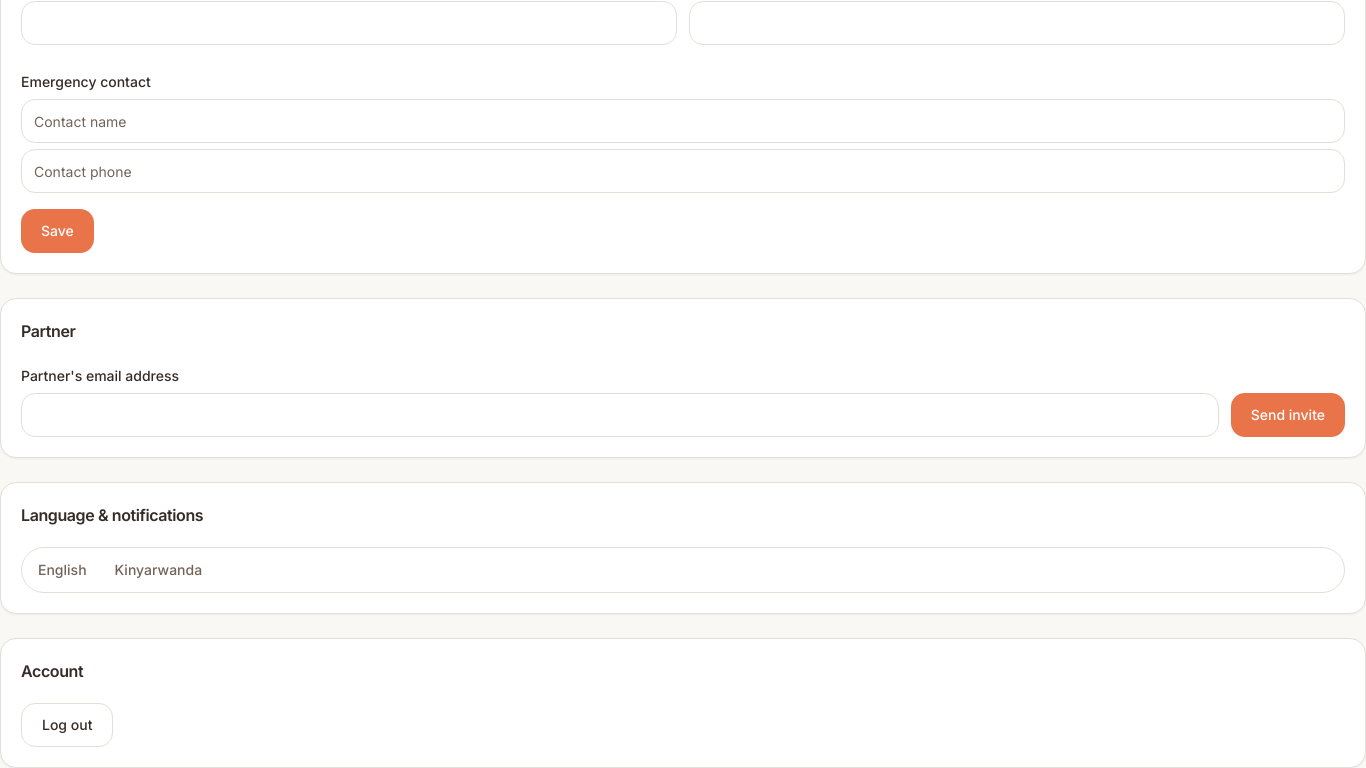
Scenario: ProfilePage › submits an invite and shows the pending state
The width and height of the screenshot is (1366, 768).
(page scrolled)
Type "partner@example.com" into the field labelled "Partner's email address" at (620, 415), box [21,393,1219,437]
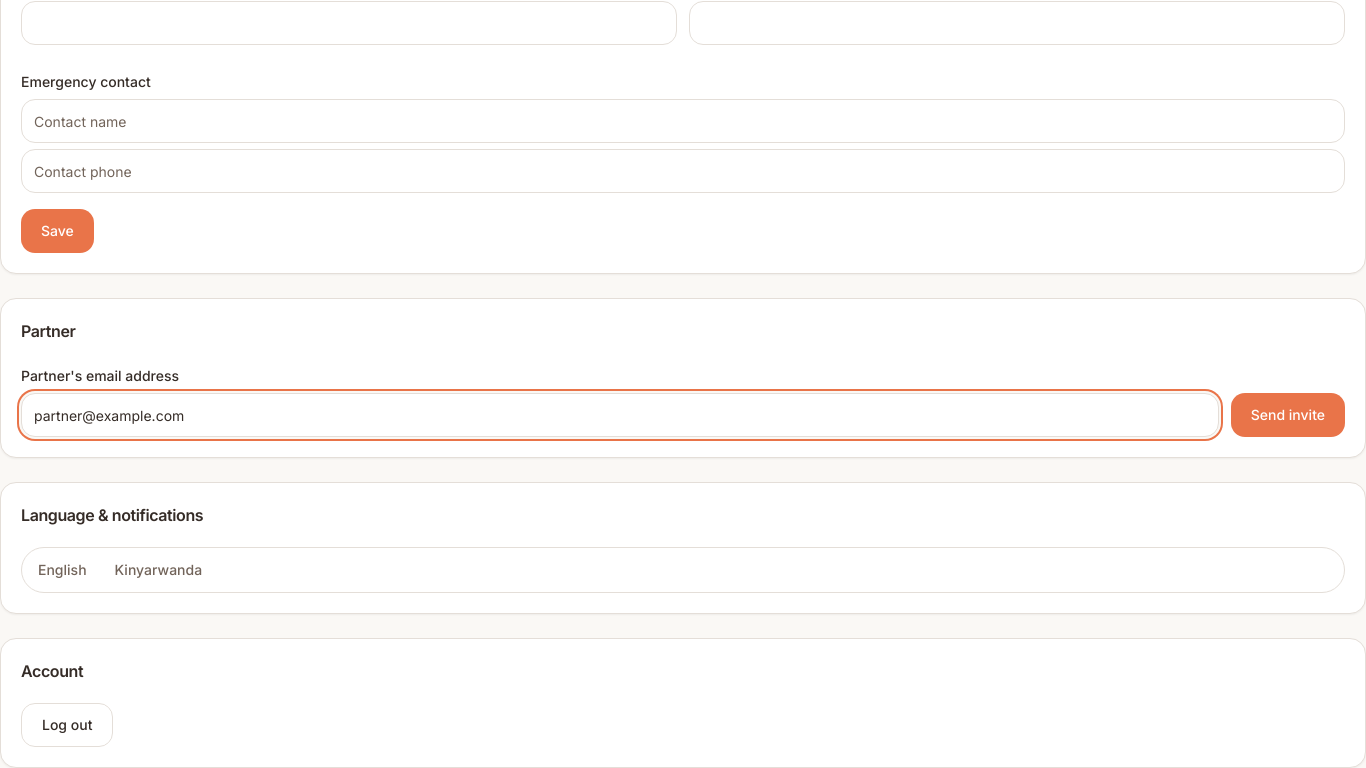
Click the button "Send invite" at (1288, 415), box [1231,393,1345,437]
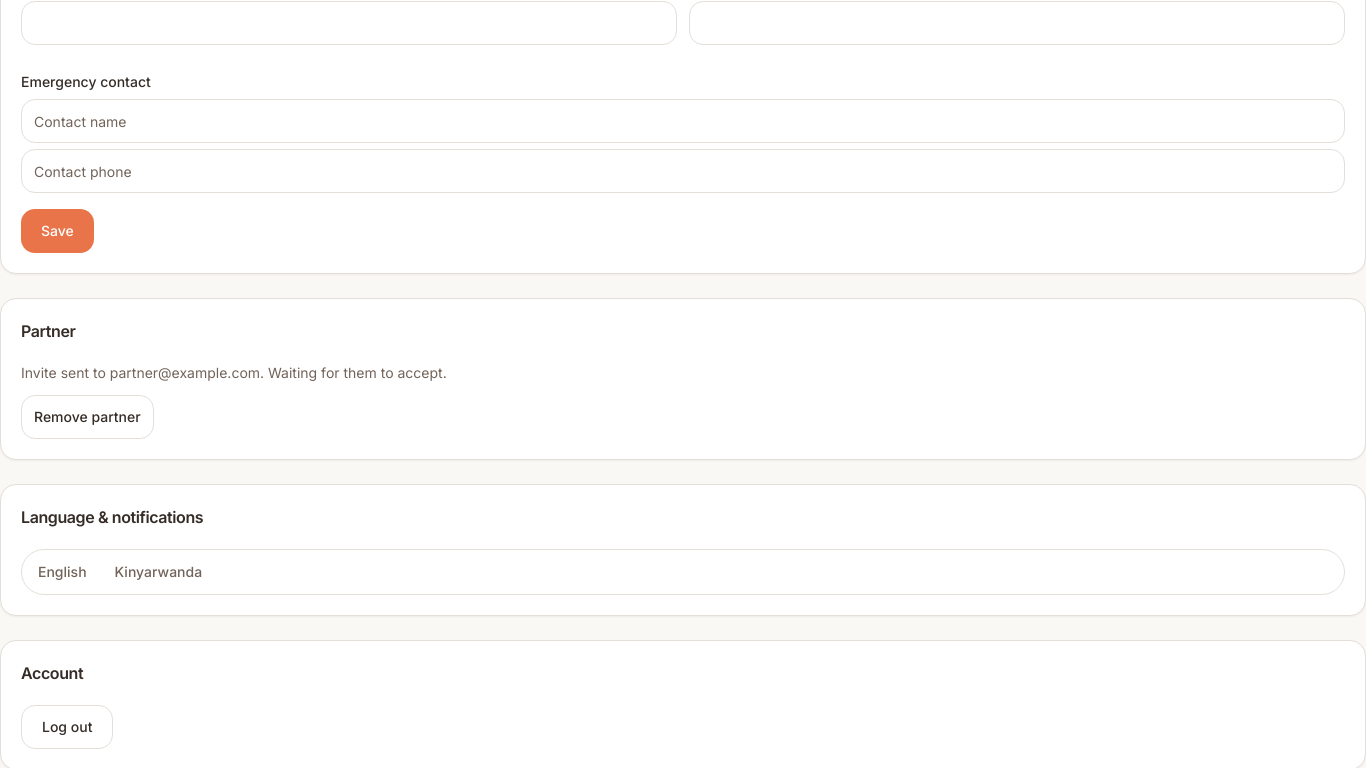
expect the button "Remove partner" is shown: met, box [21,395,154,439]
